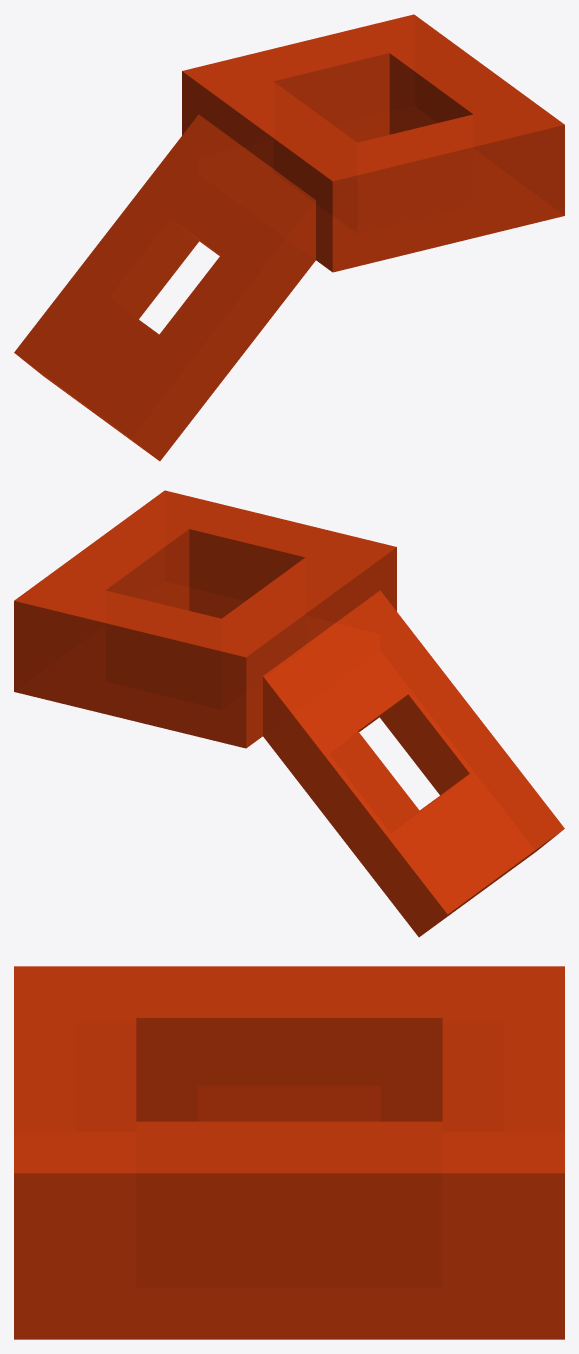
3 views of the same model, one above another, from view 1: azimuth 30°, elevation 25°; view 2: azimuth 150°, elevation 25°; view 3: azimuth 270°, elevation 25° (orthographic). The views are drawn at different scales.
Visible parts, largest first — view 1: SketchUp (×3); view 2: SketchUp (×3); view 3: SketchUp (×2).
Boxes of the visible parts, x1,y1,x2,y2 form: SketchUp (×3): [14, 14, 564, 461]; SketchUp (×3): [14, 490, 564, 937]; SketchUp (×2): [14, 966, 564, 1339].
Size of the model in its own units: 2828 by 1772 by 1648.
